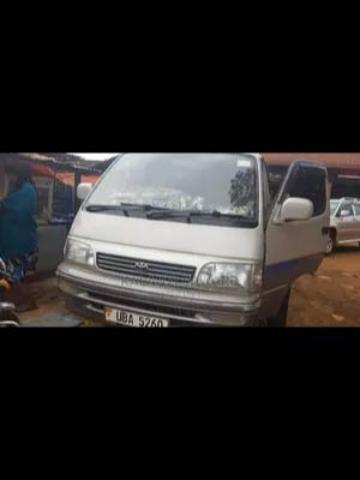van: (57, 152, 328, 325)
